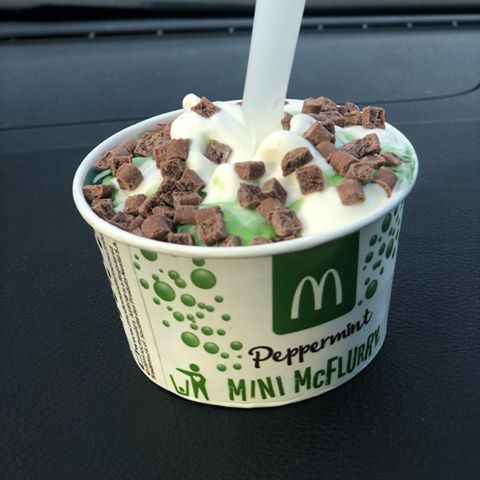mcdonalds: (286, 265, 348, 320)
